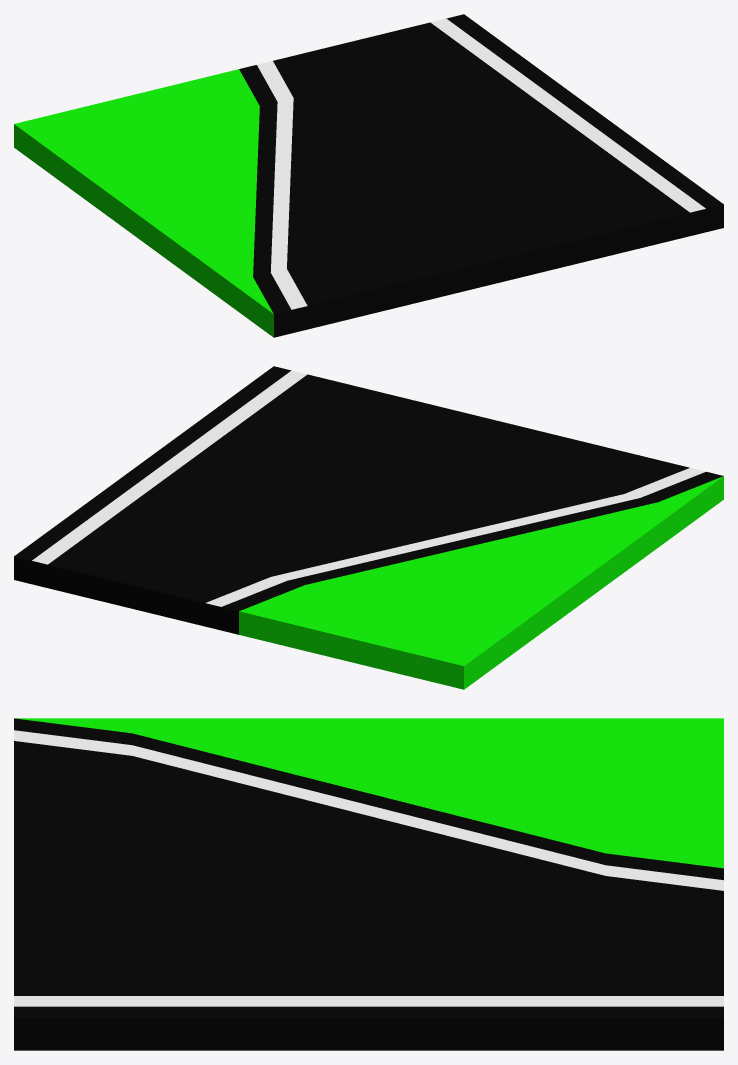
Rendered from bigtosmall2_export.fbx.
3 renders of one model, top to bottom at view 1: azimuth 30°, elevation 25°; view 2: azimuth 150°, elevation 25°; view 3: azimuth 270°, elevation 25°, orthographic. The views are drawn at different scales.
Visible parts, largest first — view 1: Cube.006; view 2: Cube.006; view 3: Cube.006.
Boxes of the visible parts, x1,y1,x2,y2 form: Cube.006: [14, 14, 723, 337]; Cube.006: [14, 366, 723, 689]; Cube.006: [14, 718, 723, 1050].
Bounding box in the file's own units: 2000 × 100 × 2000.
